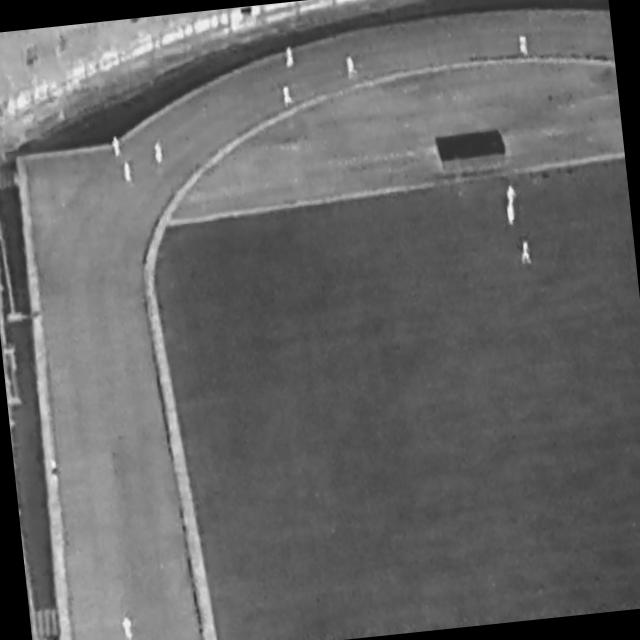person: (120, 615, 134, 640), (50, 458, 61, 488), (346, 55, 359, 80), (520, 241, 533, 266), (283, 86, 295, 109), (519, 34, 530, 59), (506, 185, 518, 206), (286, 45, 296, 70), (112, 135, 122, 158), (507, 203, 517, 226), (124, 163, 134, 184), (155, 142, 164, 165)
